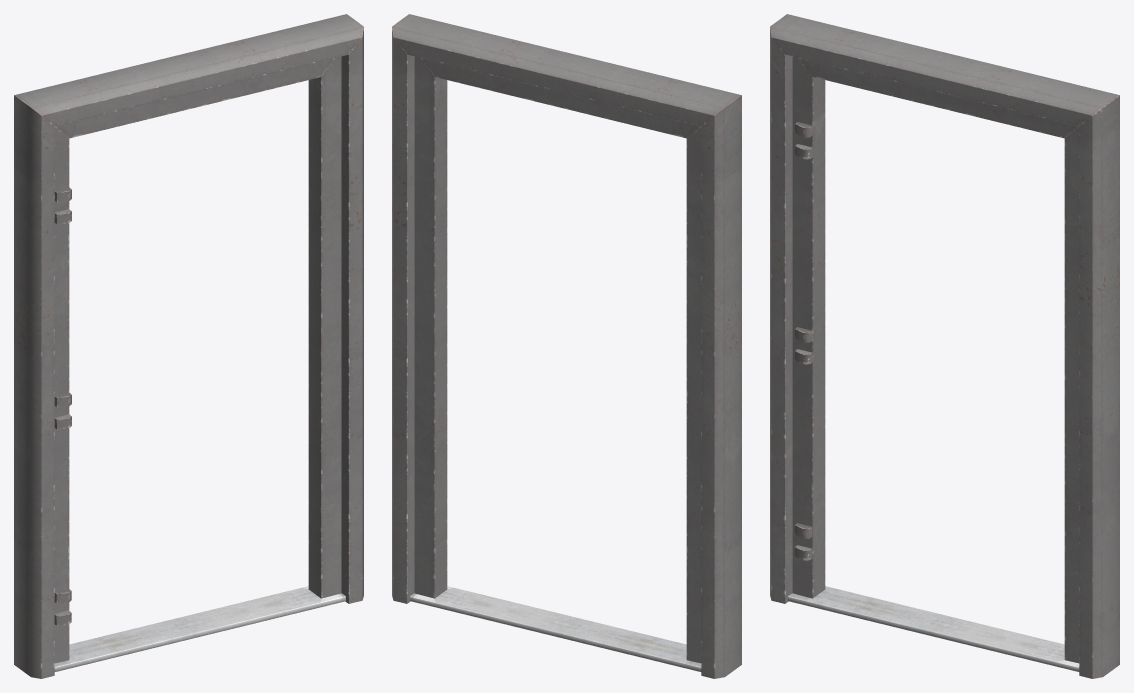
Rendered from SM_Metal_Door_Frame_Single_01a.glb.
The picture shows the model from 3 angles, left to right: view 1: azimuth 30°, elevation 25°; view 2: azimuth 150°, elevation 25°; view 3: azimuth 330°, elevation 25°; orthographic projection.
Visible parts, largest first — view 1: SM_Metal_Door_Frame_Single_01a; view 2: SM_Metal_Door_Frame_Single_01a; view 3: SM_Metal_Door_Frame_Single_01a.
Boxes of the visible parts, x1=… form: SM_Metal_Door_Frame_Single_01a: x1=14, y1=14, x2=363, y2=678; SM_Metal_Door_Frame_Single_01a: x1=392, y1=14, x2=741, y2=678; SM_Metal_Door_Frame_Single_01a: x1=770, y1=14, x2=1119, y2=678.
Size of the model in its own units: 1.39 by 2.27 by 0.1877.
1 material, 1 textured.
